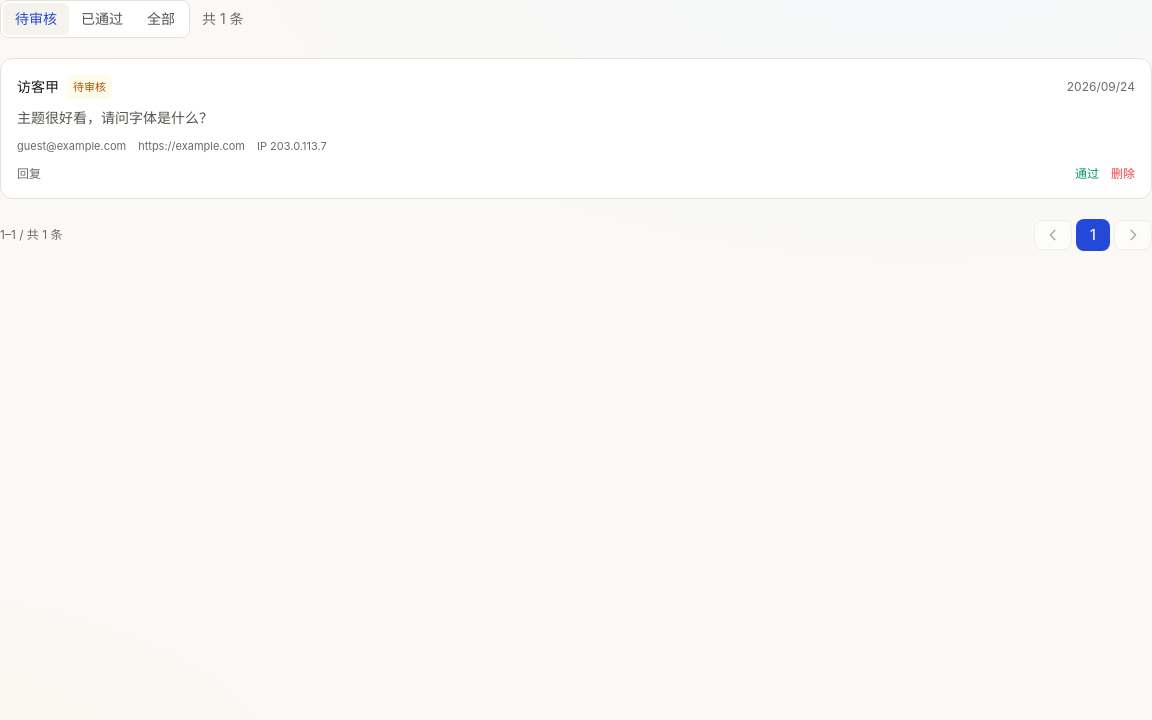
it: GuestbookView（后台） · 删除 › 点删除只打开确认框，一个请求都不发
Step 1. Click the button "删除" → x=1123, y=174, box x1=1111 y1=166 x2=1135 y2=182
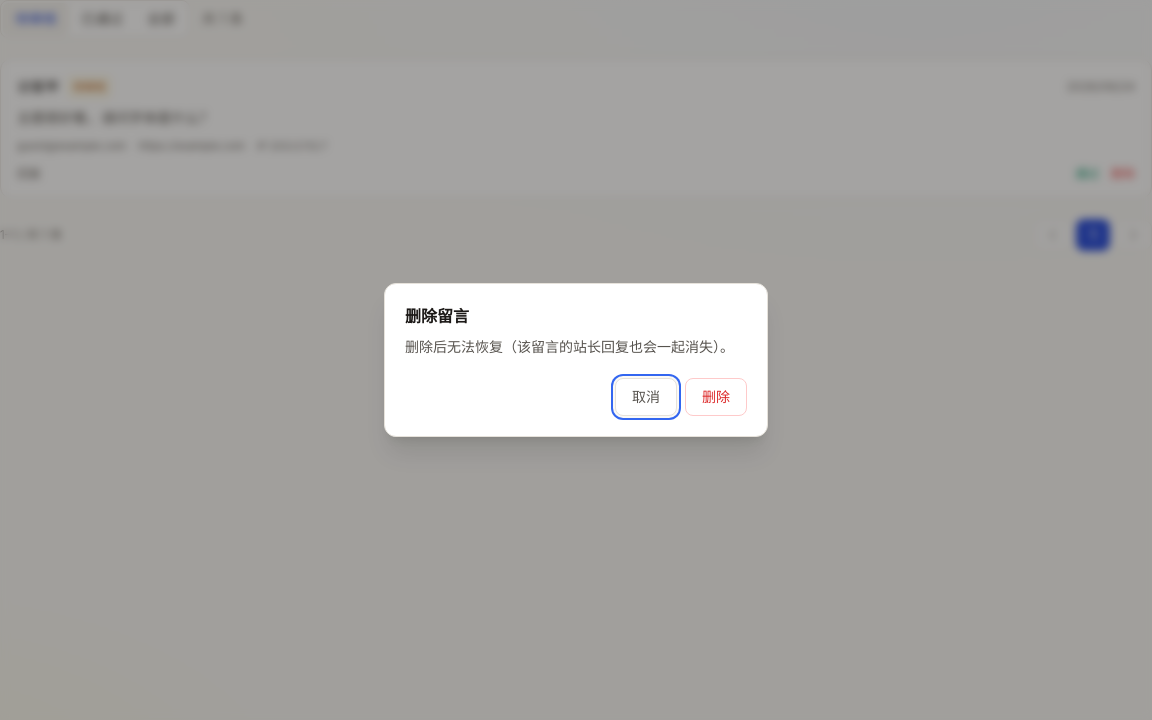
Expected: the dialog is shown
